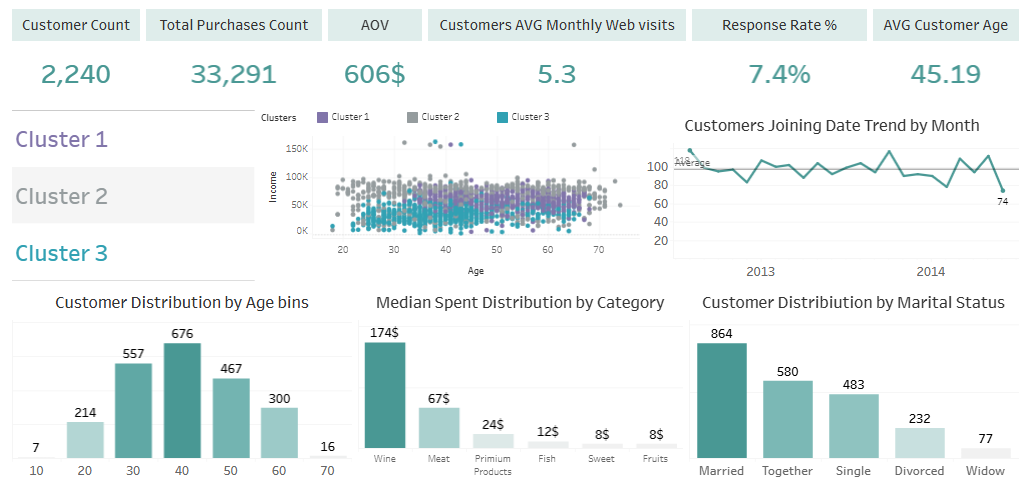

The page's visual inventory and layout, read from the dashboard file:
{"tool":"tableau","page":{"name":"Dashboard 1","canvas":[1366,650],"ordinal":0},"visuals":[{"type":"worksheet","title":"Customer Count","mark":"Automatic","box":[8,8,187,134]},{"type":"worksheet","title":"Total Purchases Count","mark":"Automatic","box":[195,8,245,134]},{"type":"worksheet","title":"AOV","mark":"Automatic","box":[440,8,149,134]},{"type":"worksheet","title":"AVG Monthly Web visits","mark":"Automatic","box":[589,8,232,134]},{"type":"worksheet","title":"AVG Recency","mark":"Automatic","box":[821,8,143,134]},{"type":"worksheet","title":"Median Yearly Income","mark":"Automatic","box":[964,8,218,134]},{"type":"worksheet","title":"Response Rate %","mark":"Automatic","box":[1182,8,176,134]},{"type":"worksheet","title":"Cluster Catagory","mark":"Automatic","box":[8,142,230,270]},{"type":"legend","title":"Cluster","param":"[federated.07r8c4r1v13ux2142tx8x1870lbv].[none:AdhocCluster:1:ok]","box":[238,142,514,34.6]},{"type":"worksheet","title":"Customers Joining Date Trend by Month","mark":"Automatic","rows":["fact_customers.csv_5409A961CE544AFAA86E3FDF9BBCB8E9"],"cols":["Customer_Joining_Date"],"box":[752,142,606,270]},{"type":"worksheet","title":"Cluster","mark":"Circle","rows":["Income"],"cols":["Calculation_990228980616196099"],"box":[238,176.6,514,235.4]},{"type":"worksheet","title":"Customer Distribution by Age bins","mark":"Automatic","rows":["fact_customers.csv_5409A961CE544AFAA86E3FDF9BBCB8E9"],"cols":["Age (bin)"],"box":[8,412,461,230]},{"type":"worksheet","title":"AVG Monthly Spent Distribution by Category","mark":"Automatic","box":[469,412,440.9,230]},{"type":"worksheet","title":"Customer Distribiution by Marital Status","mark":"Automatic","rows":["fact_customers.csv_5409A961CE544AFAA86E3FDF9BBCB8E9"],"cols":["Marital_Status"],"box":[909.9,412,448,230]}]}

Visuals, with their boxes in screenshot pixels (x1, y1, x2, y2), scaled from the page's 1366x650 canvas onto the 1030x482 screenshot:
"Customer Count" worksheet: (6,6,147,105)
"Total Purchases Count" worksheet: (147,6,332,105)
"AOV" worksheet: (332,6,444,105)
"AVG Monthly Web visits" worksheet: (444,6,619,105)
"AVG Recency" worksheet: (619,6,727,105)
"Median Yearly Income" worksheet: (727,6,891,105)
"Response Rate %" worksheet: (891,6,1024,105)
"Cluster Catagory" worksheet: (6,105,179,306)
"Cluster" legend: (179,105,567,131)
"Customers Joining Date Trend by Month" worksheet: (567,105,1024,306)
"Cluster" worksheet (Circle marks): (179,131,567,306)
"Customer Distribution by Age bins" worksheet: (6,306,354,476)
"AVG Monthly Spent Distribution by Category" worksheet: (354,306,686,476)
"Customer Distribiution by Marital Status" worksheet: (686,306,1024,476)
